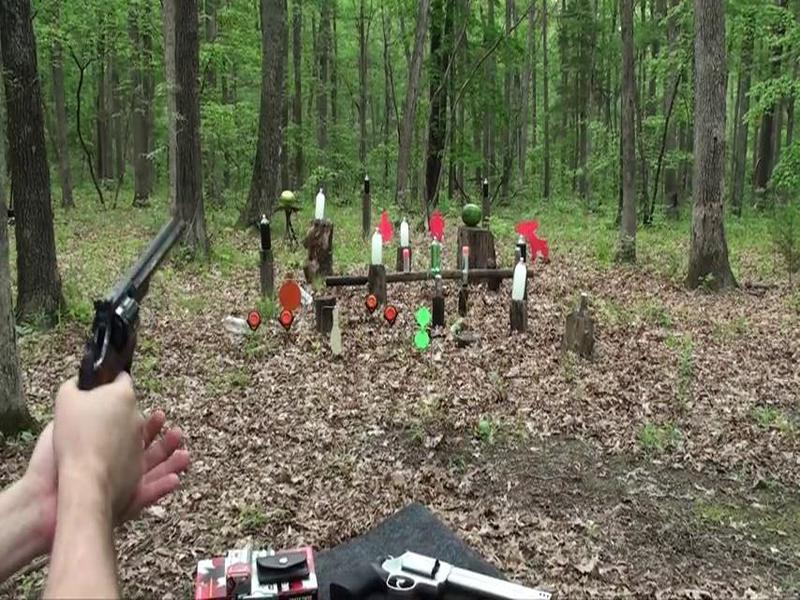Revolver: (63, 197, 198, 433)
